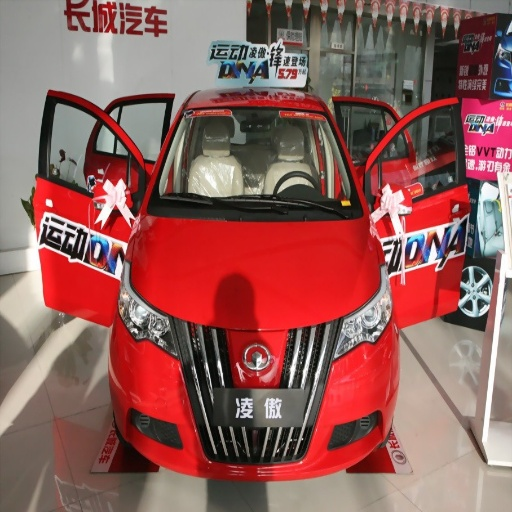front_bumper: (111, 317, 388, 476)
front_glass: (148, 107, 361, 222)
front_left_light: (332, 289, 392, 360)
front_right_door: (65, 100, 130, 161)
front_right_light: (117, 283, 178, 358)
hood: (131, 215, 378, 325)
